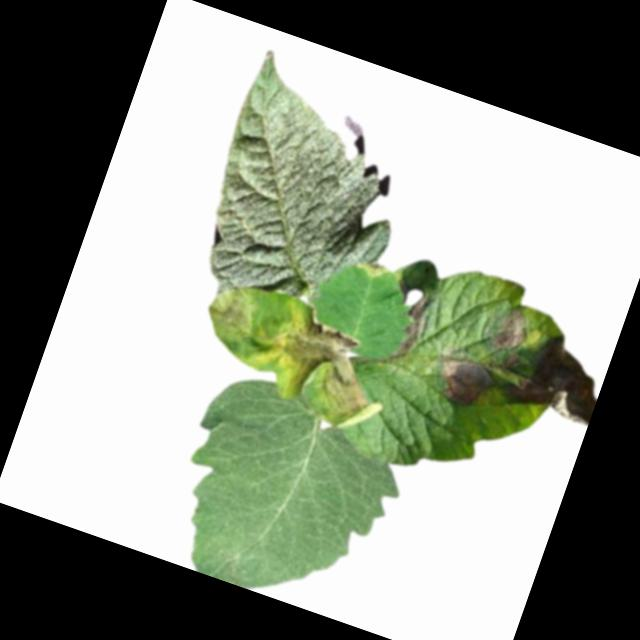Late_blight: (256, 311, 402, 439), (497, 319, 614, 429), (422, 346, 499, 412), (199, 279, 264, 345), (382, 285, 433, 366), (487, 298, 536, 356), (352, 257, 388, 280)
healthy: (184, 46, 437, 328), (152, 364, 416, 625)
